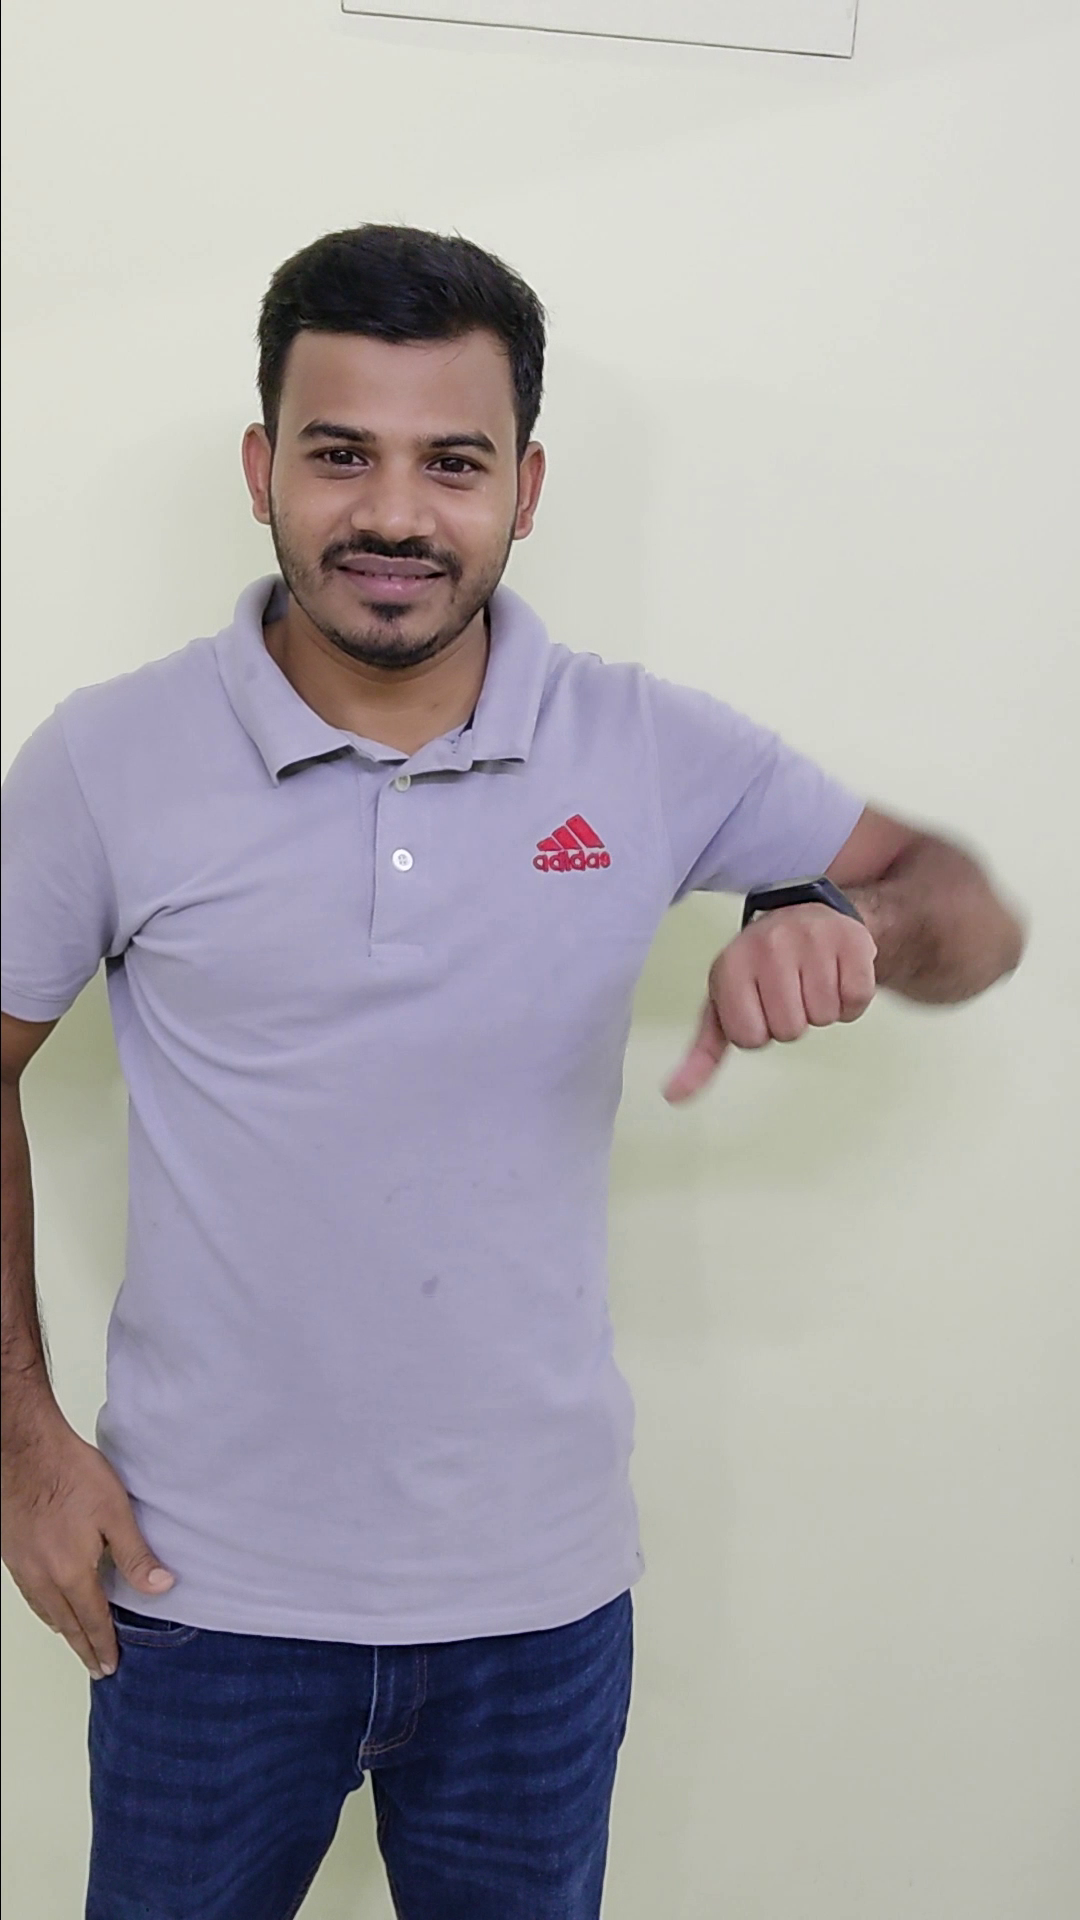Dislike: (633, 881, 930, 1109)
None: (3, 1393, 189, 1683)
